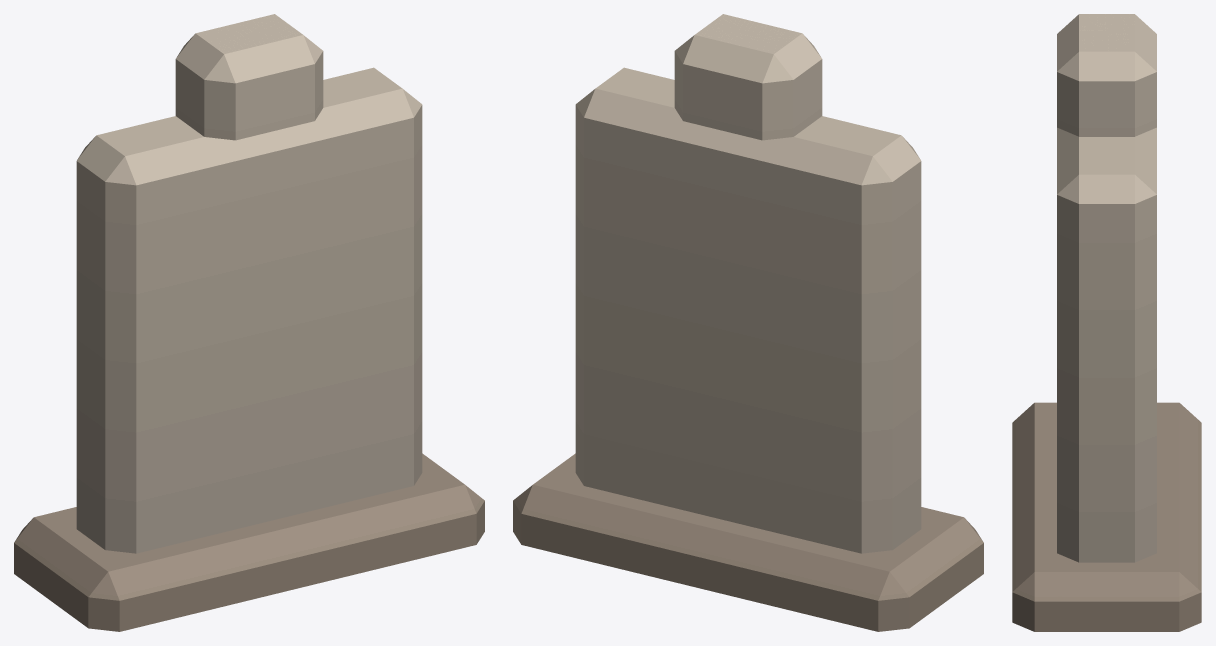
The model's file is headstone_2.glb.
The picture shows the model from 3 angles, left to right: view 1: azimuth 30°, elevation 25°; view 2: azimuth 150°, elevation 25°; view 3: azimuth 270°, elevation 25°; orthographic projection. The views are drawn at different scales.
Parts seen in each view (by area): view 1: headstone_2; view 2: headstone_2; view 3: headstone_2.
Part boxes in pixels (x1,y1,x2,y2): headstone_2: [14, 14, 484, 631]; headstone_2: [513, 14, 983, 631]; headstone_2: [1012, 14, 1201, 631].
Size of the model in its own units: 0.8 by 1 by 0.34.
Materials: 1 (1 with a texture image).
